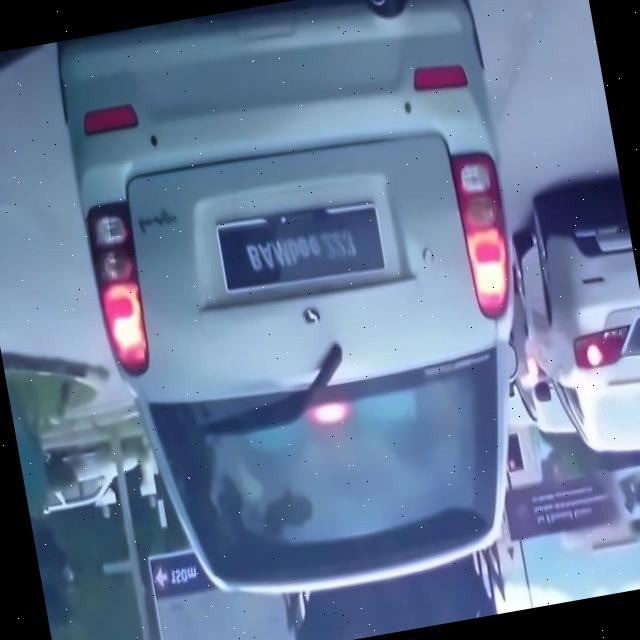License_Plate: (215, 197, 390, 302)
car: (47, 1, 572, 626)
